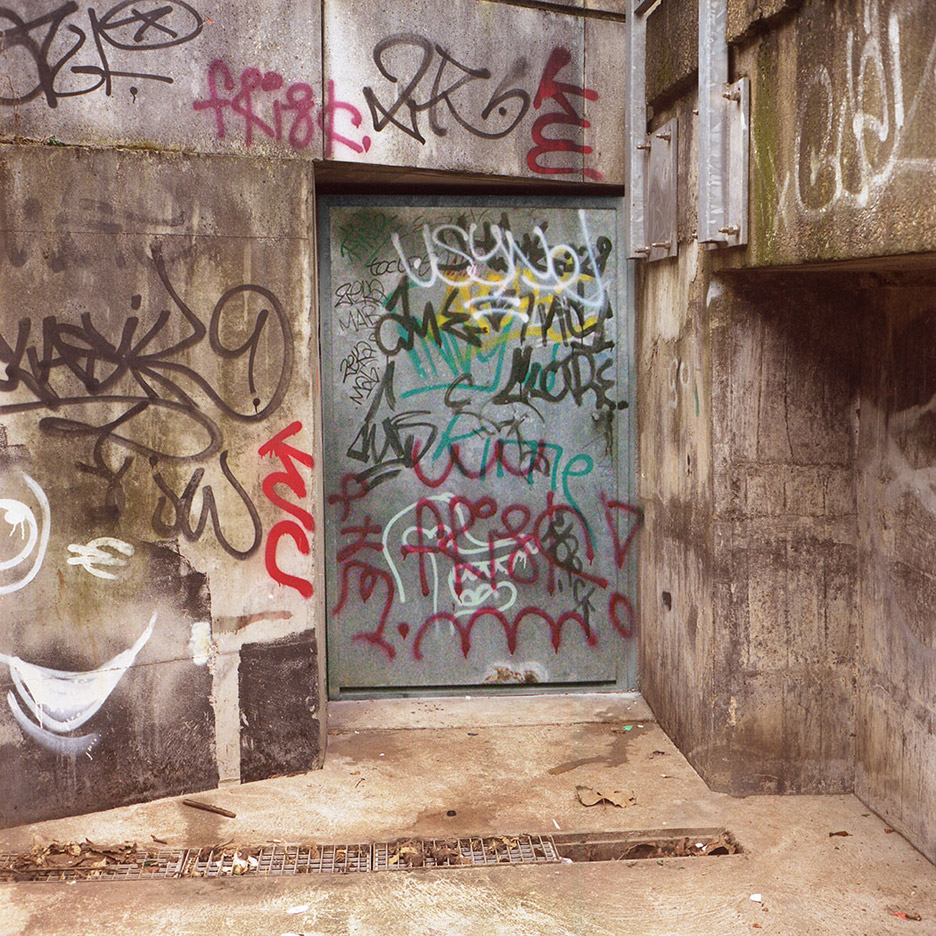graphite: (1, 271, 297, 765), (335, 214, 651, 674), (794, 36, 924, 220), (361, 39, 537, 165), (1, 1, 198, 112), (203, 50, 370, 179), (265, 431, 347, 594), (519, 40, 614, 179)
